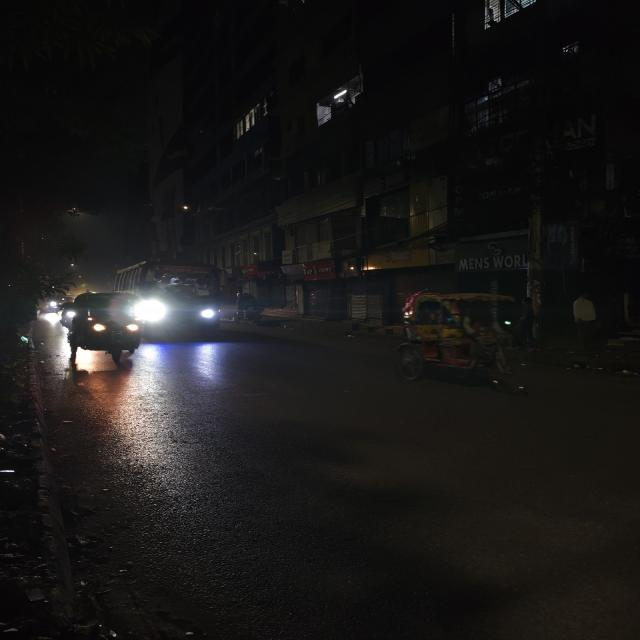bus: (135, 262, 229, 332)
cng: (54, 290, 154, 374)
rickshaw: (386, 286, 538, 396), (230, 291, 267, 329)
